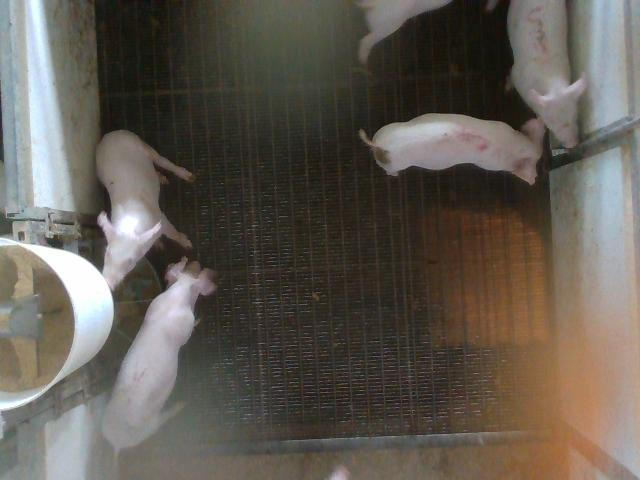pig-3: (508, 0, 586, 148)
pig-5: (359, 114, 544, 183)
